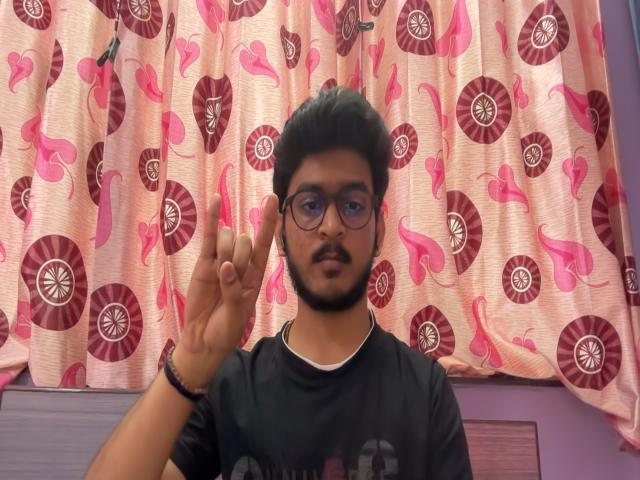I Love You: (170, 178, 285, 371)
